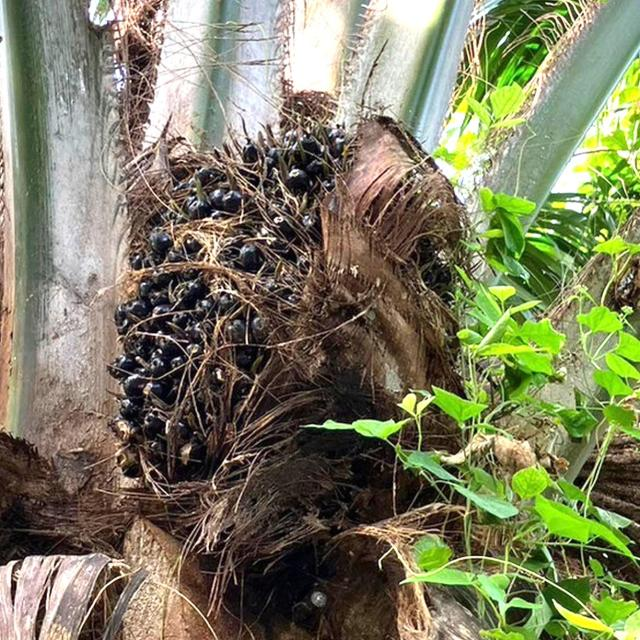unripe: (95, 101, 443, 541)
